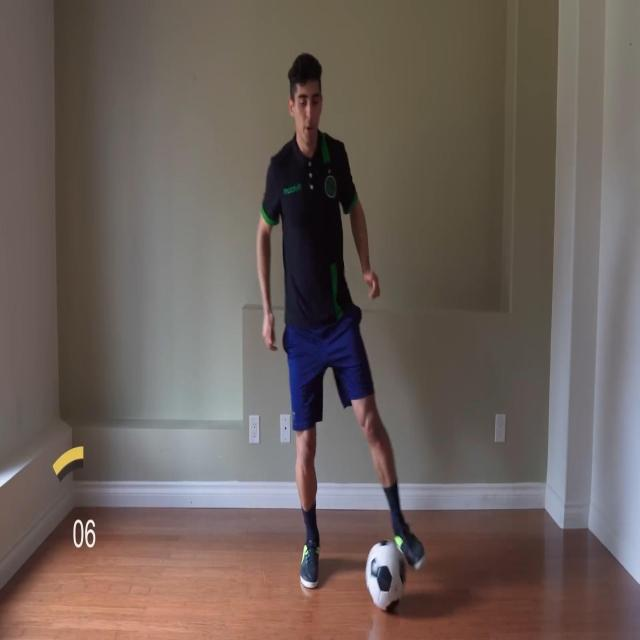Soccer Ball: (365, 538, 408, 612)
